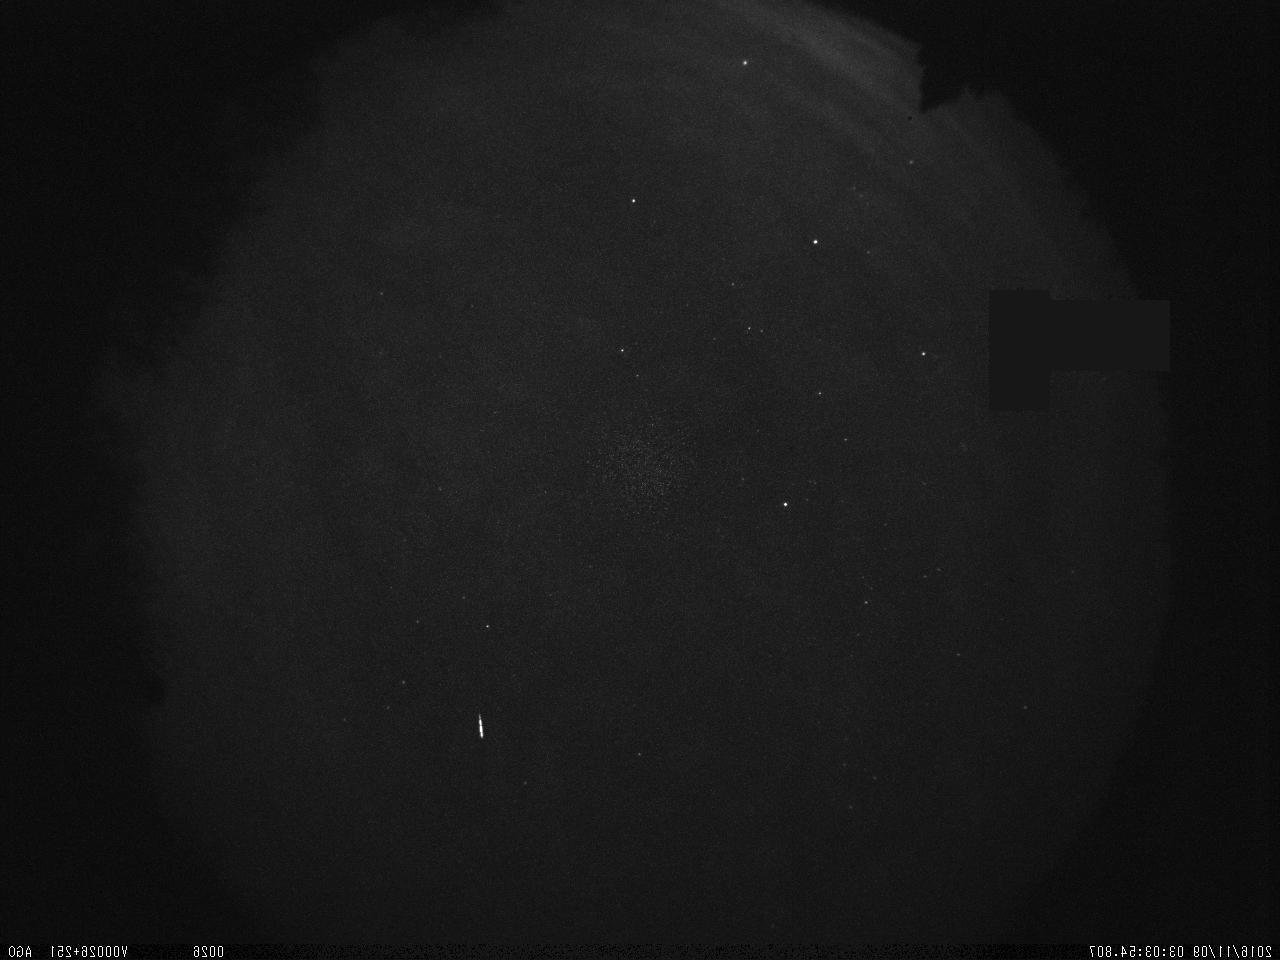meteor: (463, 698, 508, 756)
